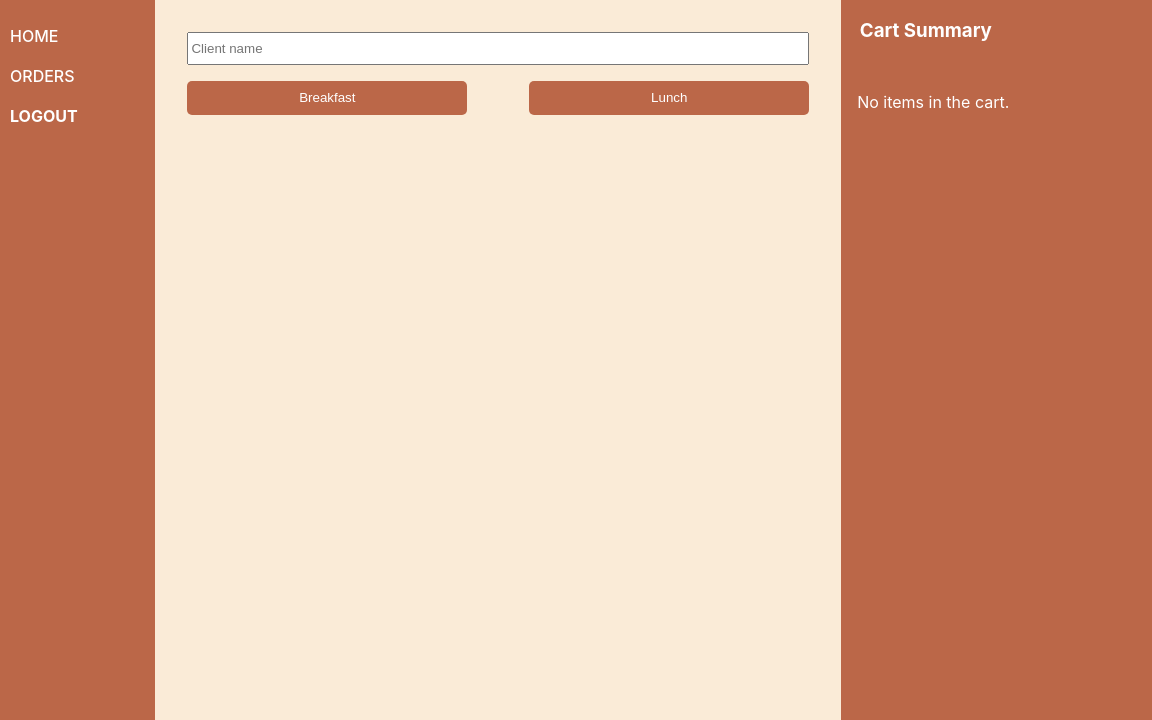
it: Waiter component › should remove product to cart
This screenshot has width=1152, height=720.
Click the button "Lunch" at (669, 98), box x1=529 y1=81 x2=809 y2=115
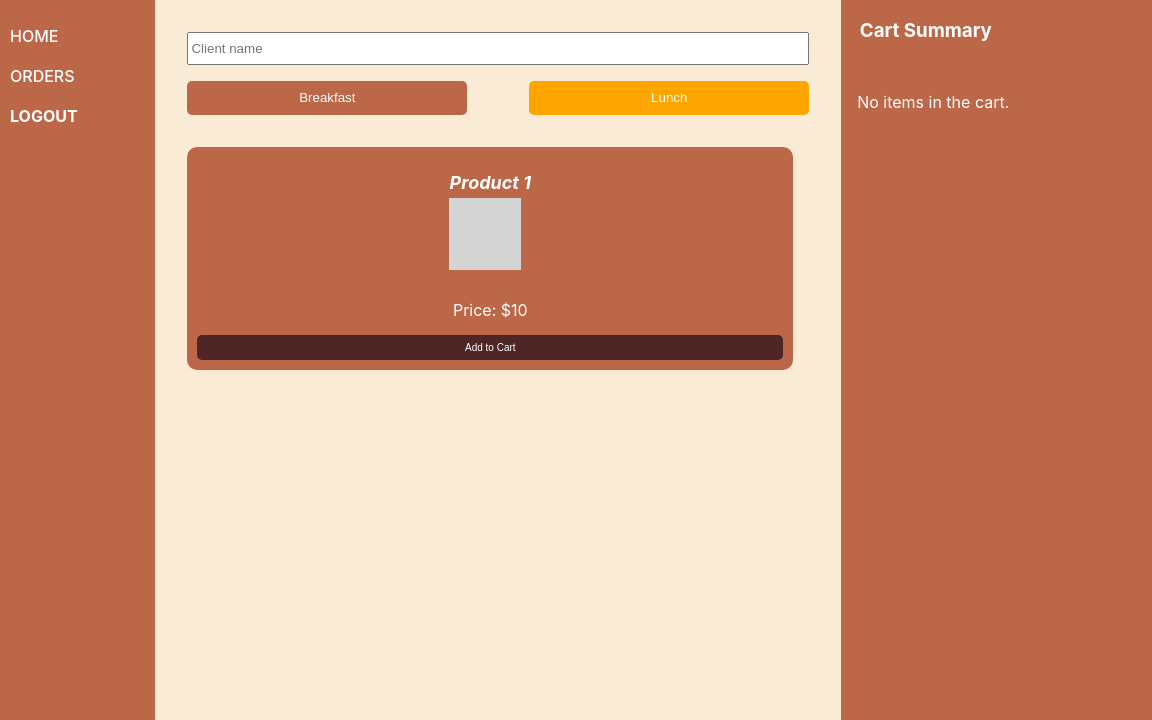
// add two times
Click the button "Add to Cart" at (490, 347), box x1=197 y1=335 x2=783 y2=360
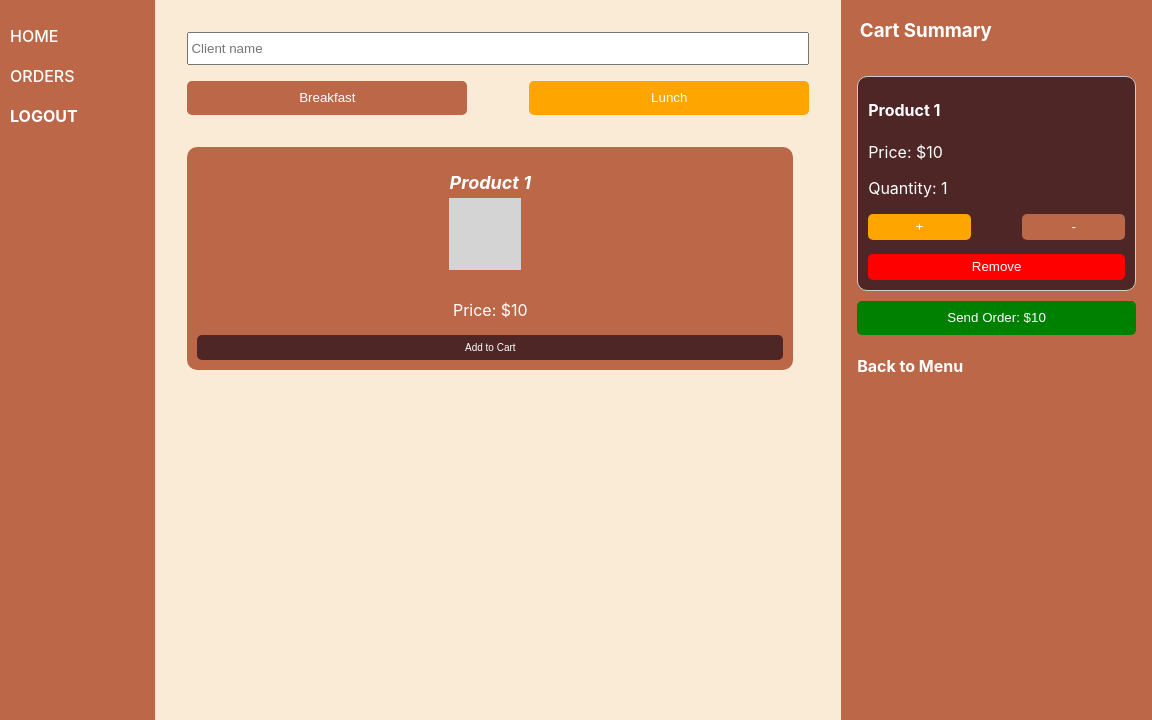
Check: the button "Send Order: $10" is shown, box x1=857 y1=301 x2=1136 y2=334
Click the button "Remove" at (997, 267), box x1=868 y1=254 x2=1125 y2=280
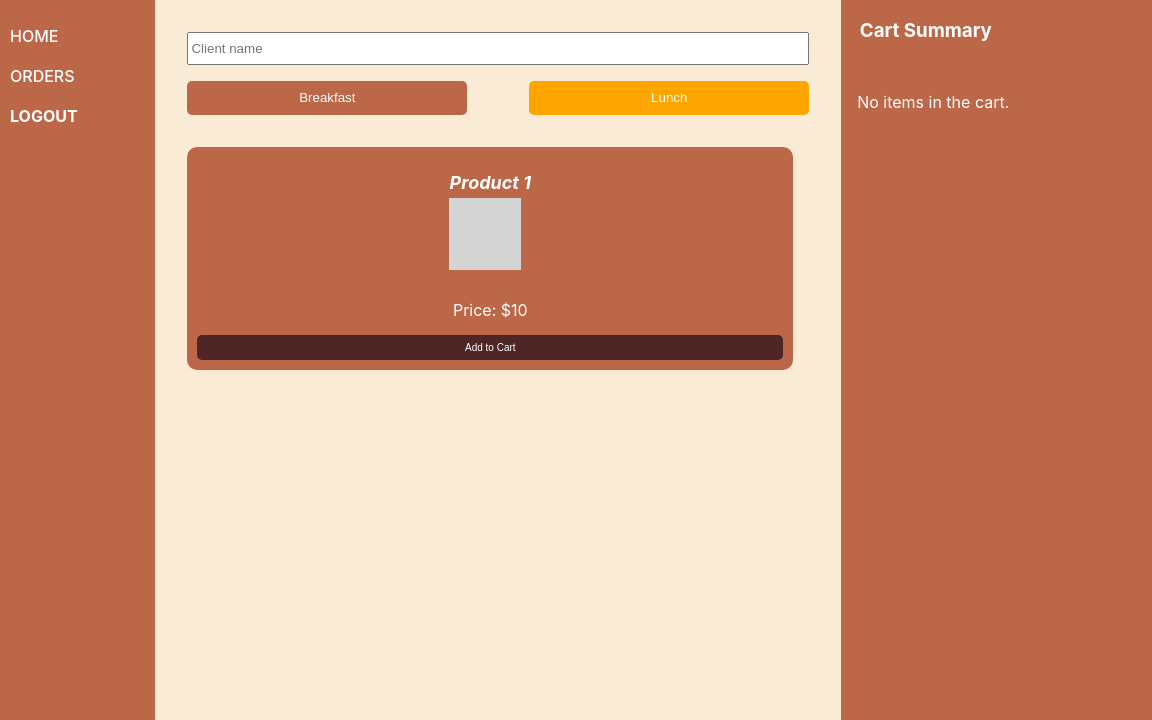
Check: the text "No items in the cart." is shown, box x1=857 y1=92 x2=1009 y2=112
